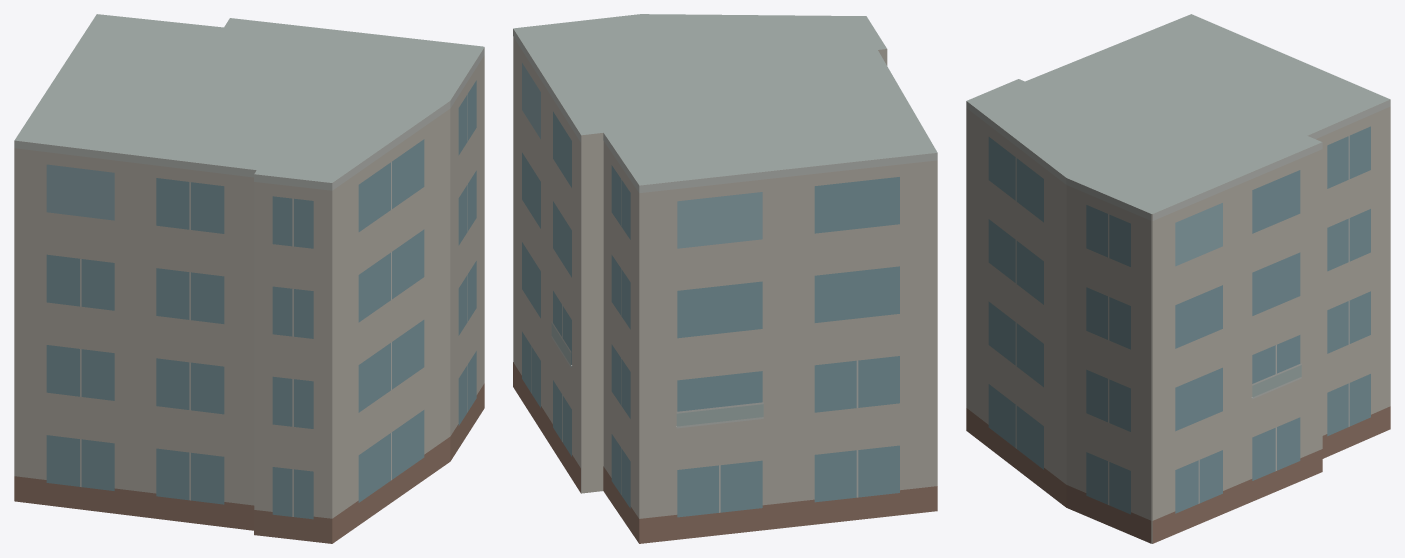
The model's file is survey-upis-32660103.glb.
The picture shows the model from 3 angles, left to right: view 1: azimuth 30°, elevation 25°; view 2: azimuth 150°, elevation 25°; view 3: azimuth 270°, elevation 25°; orthographic projection. The views are drawn at different scales.
Parts seen in each view (by area): view 1: survey-upis-32660103.tmp; view 2: survey-upis-32660103.tmp; view 3: survey-upis-32660103.tmp.
Boxes of the visible parts, x1,y1,x2,y2 form: survey-upis-32660103.tmp: (14,14,484,543); survey-upis-32660103.tmp: (513,14,937,543); survey-upis-32660103.tmp: (966,14,1390,543).
Bounding box in the file's own units: 14.98 × 11.5 × 13.42.
